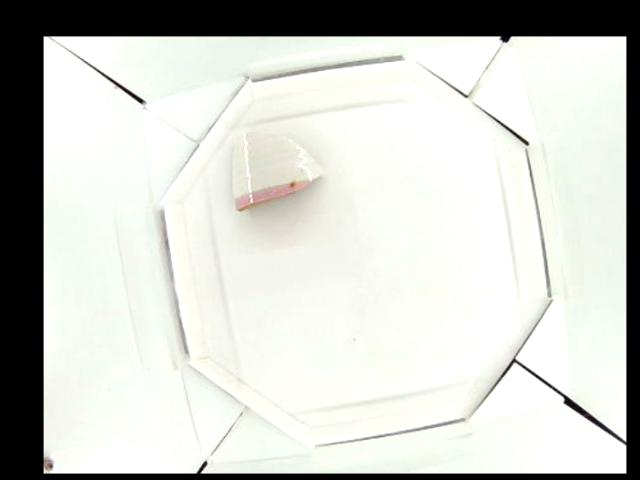China: (233, 130, 322, 211)
